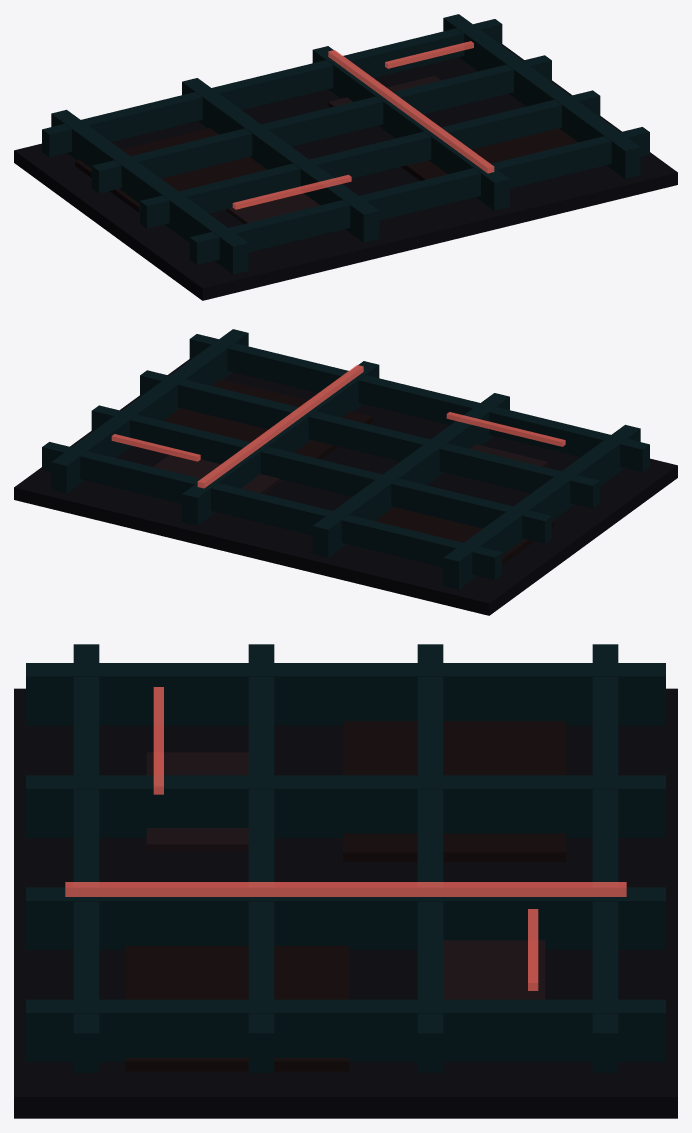
Rendered from hp_room_ceiling_panel_core.glb.
3 renders of one model, top to bottom at view 1: azimuth 30°, elevation 25°; view 2: azimuth 150°, elevation 25°; view 3: azimuth 270°, elevation 25°, orthographic. The views are drawn at different scales.
Parts seen in each view (by area): view 1: core_ceiling_shadow_backplate, core_ceiling_cyan_spine; view 2: core_ceiling_shadow_backplate, core_ceiling_cyan_spine; view 3: core_ceiling_shadow_backplate, core_ceiling_cyan_spine.
Part boxes in pixels (box(x1,y1,x2,y2)): core_ceiling_shadow_backplate: box(14, 14, 677, 300); core_ceiling_cyan_spine: box(232, 41, 494, 209); core_ceiling_shadow_backplate: box(14, 329, 677, 615); core_ceiling_cyan_spine: box(111, 365, 565, 488); core_ceiling_shadow_backplate: box(14, 644, 677, 1118); core_ceiling_cyan_spine: box(65, 687, 626, 990).
Bounding box in the file's own units: 3.2 × 0.315 × 2.2.
Materials: 2 (2 with a texture image).
